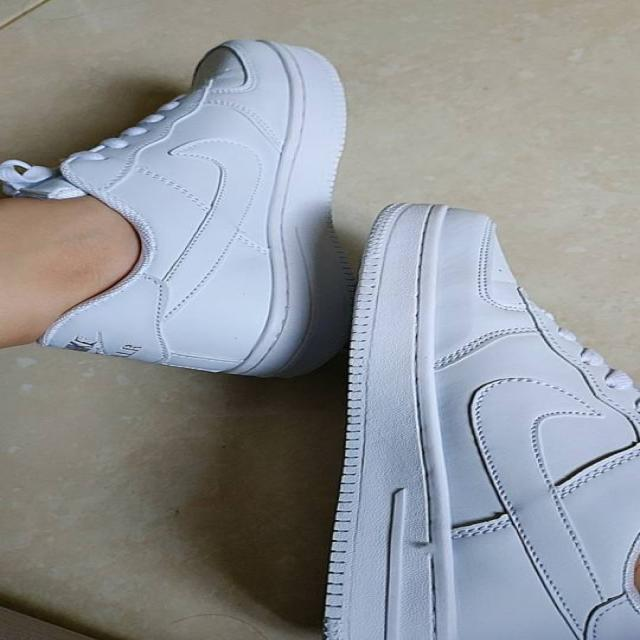nike fake air force: (324, 196, 636, 640), (27, 22, 360, 379)
